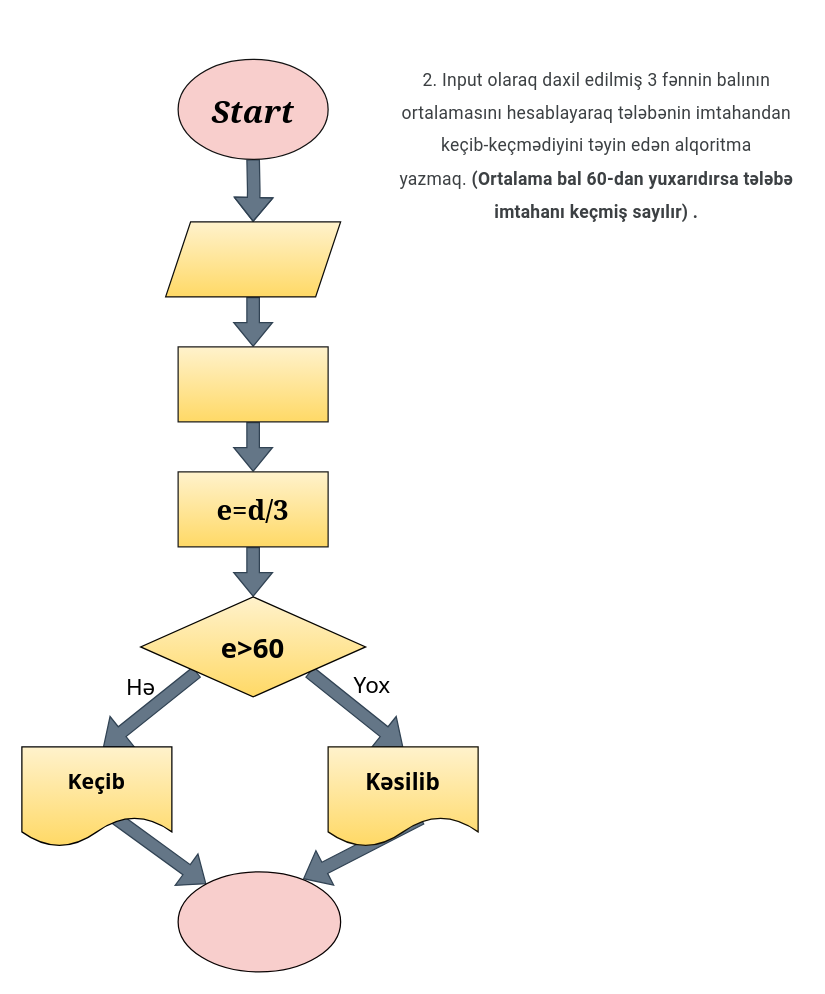
The diagram is 825 pixels wide and 994 high, and some of its shapes have lost their labels. The centre of each missing label's shape, as x and y in pixels:
"a,b,c" goes at (252,259).
"d=a+b+c" goes at (252,384).
"End" goes at (259,921).
